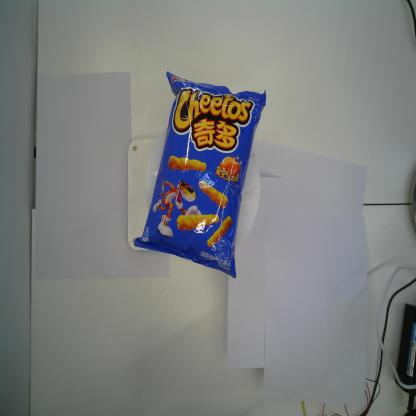Puffed Food: (134, 69, 268, 281)
